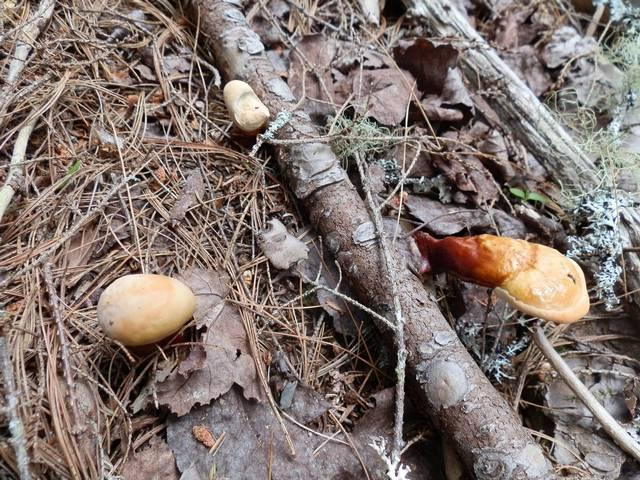poisonous_mushroom: (410, 229, 591, 325), (95, 272, 197, 347), (222, 78, 270, 135)
